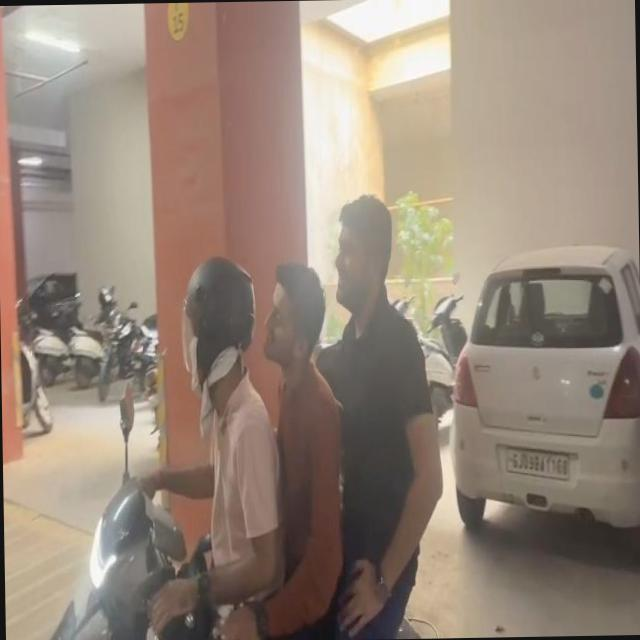motorcycle: (37, 461, 208, 640)
person: (292, 188, 440, 640), (124, 249, 276, 640), (230, 255, 359, 640)
rider_region: (37, 190, 447, 640)
